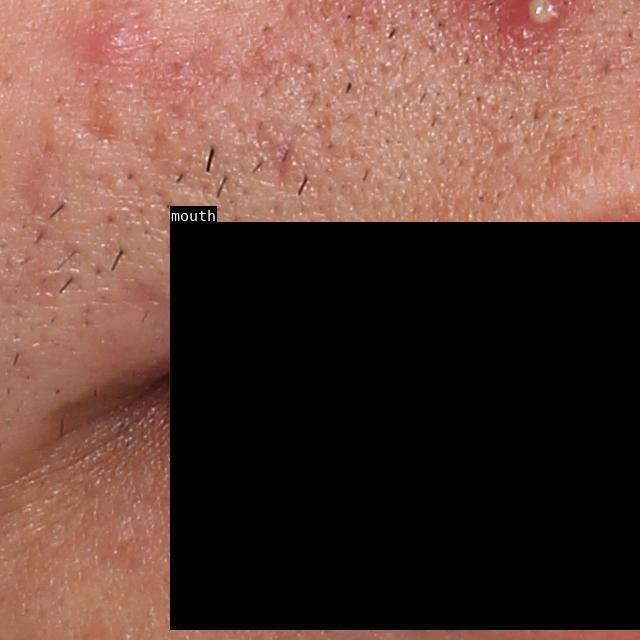atrophic_scar: (248, 110, 298, 185), (67, 97, 121, 147)
papule: (86, 19, 144, 79)
